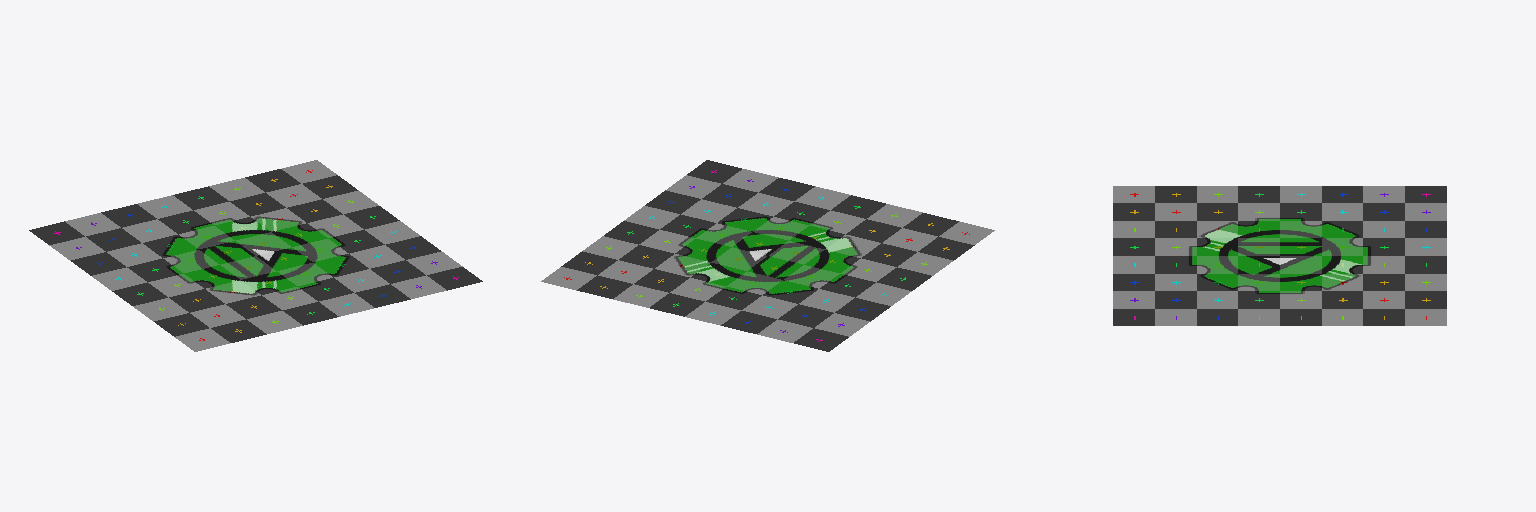
The picture shows the model from 3 angles: view 1: azimuth 30°, elevation 25°; view 2: azimuth 150°, elevation 25°; view 3: azimuth 270°, elevation 25°; orthographic projection.
Parts seen in each view (by area): view 1: Tela; view 2: Tela; view 3: Tela.
Boxes of the visible parts, box(x1,y1,x2,y2) form: Tela: box(29, 160, 482, 351); Tela: box(541, 160, 994, 351); Tela: box(1113, 186, 1446, 325).
Bounding box in the file's own units: 3.9 × 0 × 3.9.
Materials: 1 (1 with a texture image).